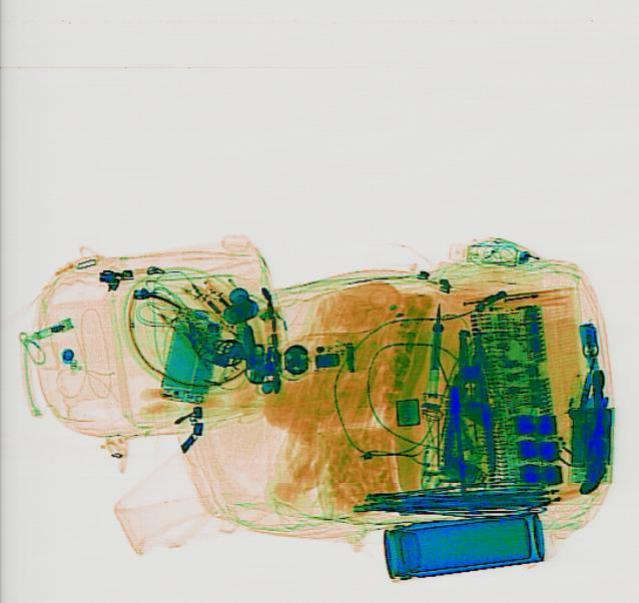Pliers: (438, 328, 497, 474)
